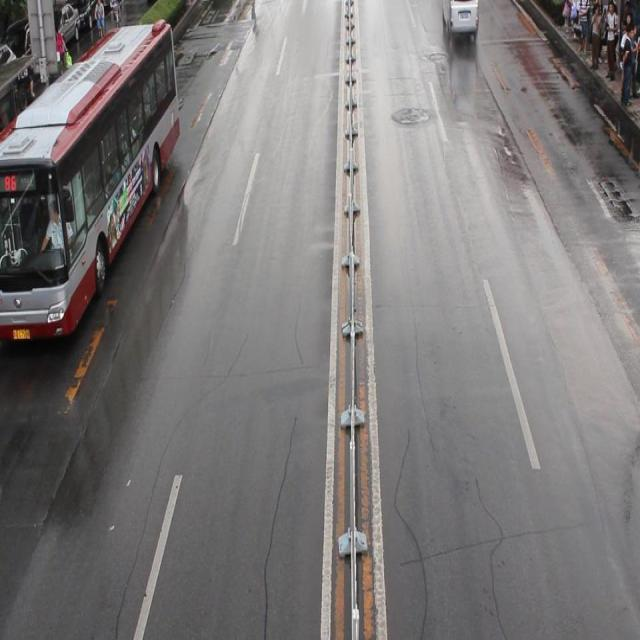truck: (440, 1, 476, 38)
van: (1, 16, 179, 340)
